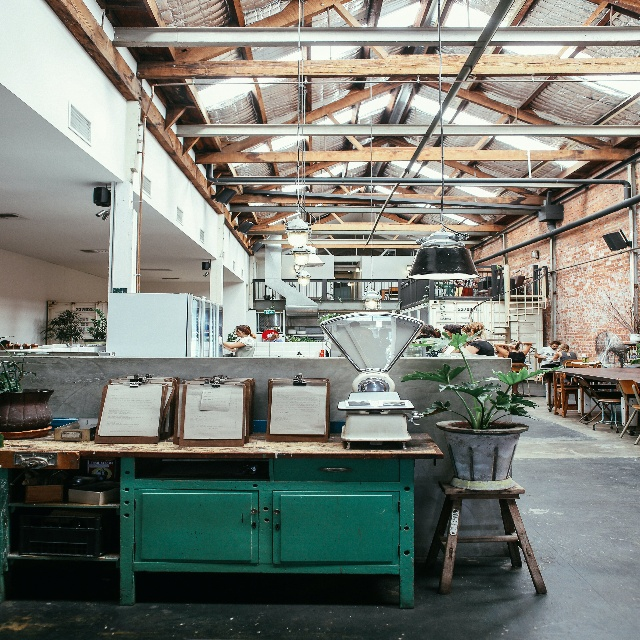Sin_guantes: (509, 344, 517, 349)
